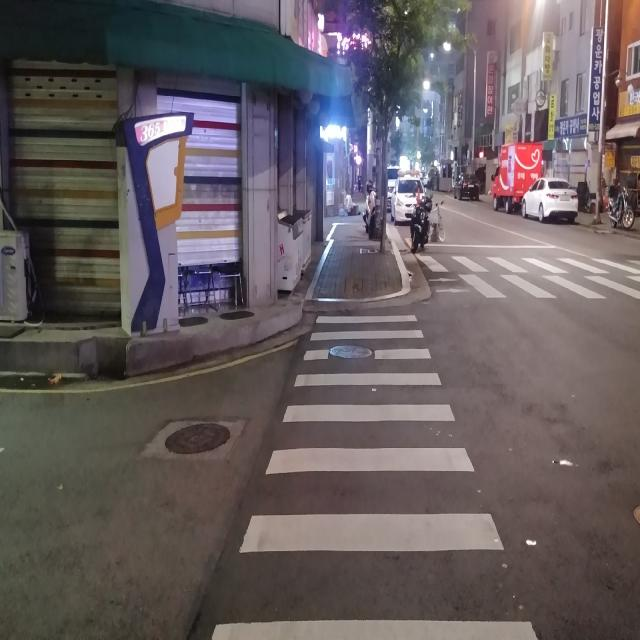횡단보도: (210, 311, 540, 639), (424, 255, 640, 299)
